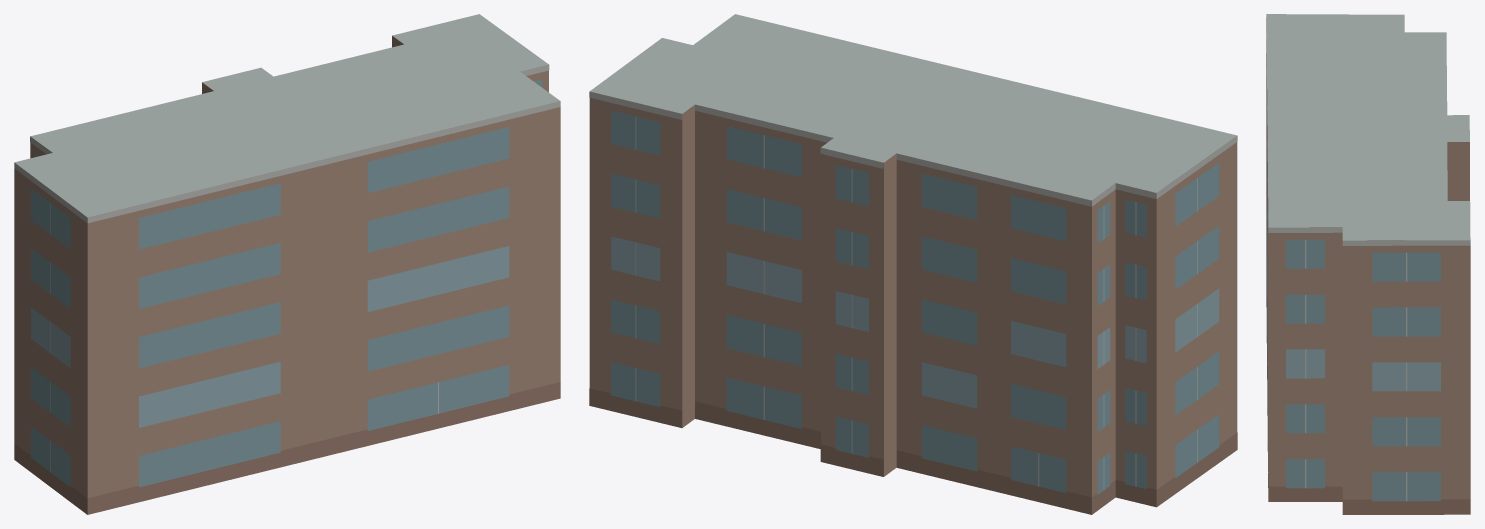
Rendered from survey-upis-32946362.glb.
3 renders of one model, left to right at view 1: azimuth 30°, elevation 25°; view 2: azimuth 150°, elevation 25°; view 3: azimuth 270°, elevation 25°, orthographic. The views are drawn at different scales.
Visible parts, largest first — view 1: survey-upis-32946362.tmp; view 2: survey-upis-32946362.tmp; view 3: survey-upis-32946362.tmp.
Part boxes in pixels (x1,y1,x2,y2): survey-upis-32946362.tmp: (14,14,560,514); survey-upis-32946362.tmp: (589,14,1237,514); survey-upis-32946362.tmp: (1266,14,1470,514).
Size of the model in its own units: 21.96 by 12.4 by 8.37.
